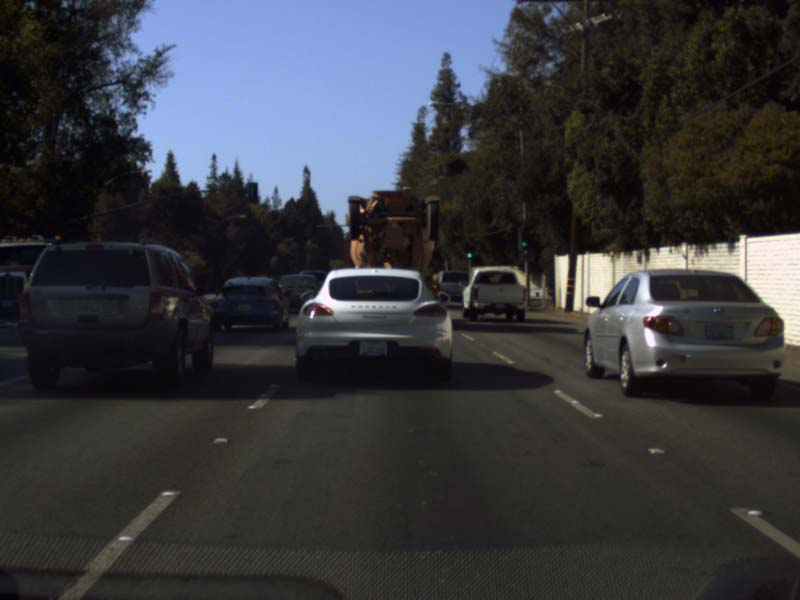Green: (520, 227, 528, 250), (465, 244, 472, 258)
